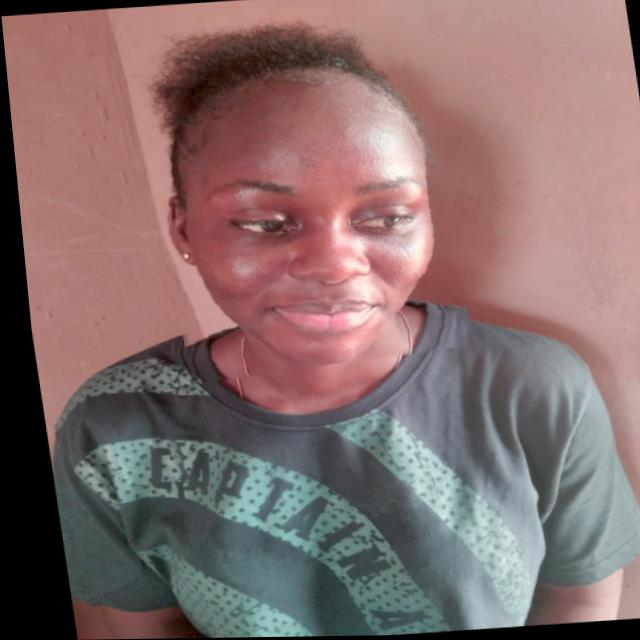happy: (122, 21, 467, 382)
